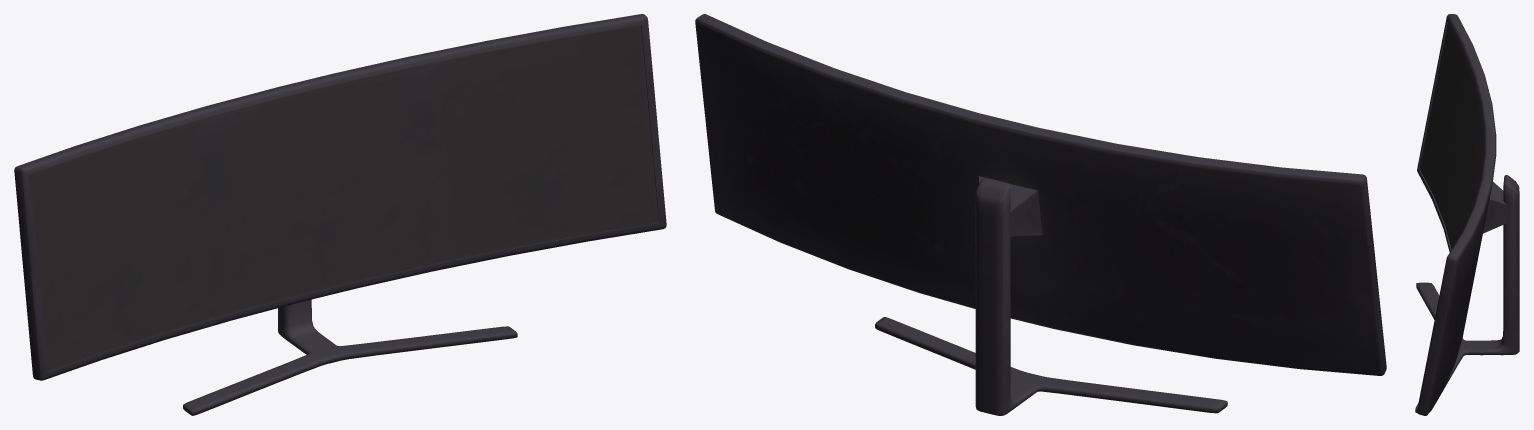
Rendered from monitor.glb.
The picture shows the model from 3 angles, left to right: view 1: azimuth 30°, elevation 25°; view 2: azimuth 150°, elevation 25°; view 3: azimuth 270°, elevation 25°; orthographic projection. The views are drawn at different scales.
Parts seen in each view (by area): view 1: normalized; view 2: normalized; view 3: normalized.
Boxes of the visible parts, bbox=[...] form: normalized: bbox=[14, 14, 666, 415]; normalized: bbox=[695, 14, 1386, 415]; normalized: bbox=[1415, 14, 1519, 415].
Size of the model in its own units: 0.92 by 0.3768 by 0.1657.
Materials: 1 (1 with a texture image).
